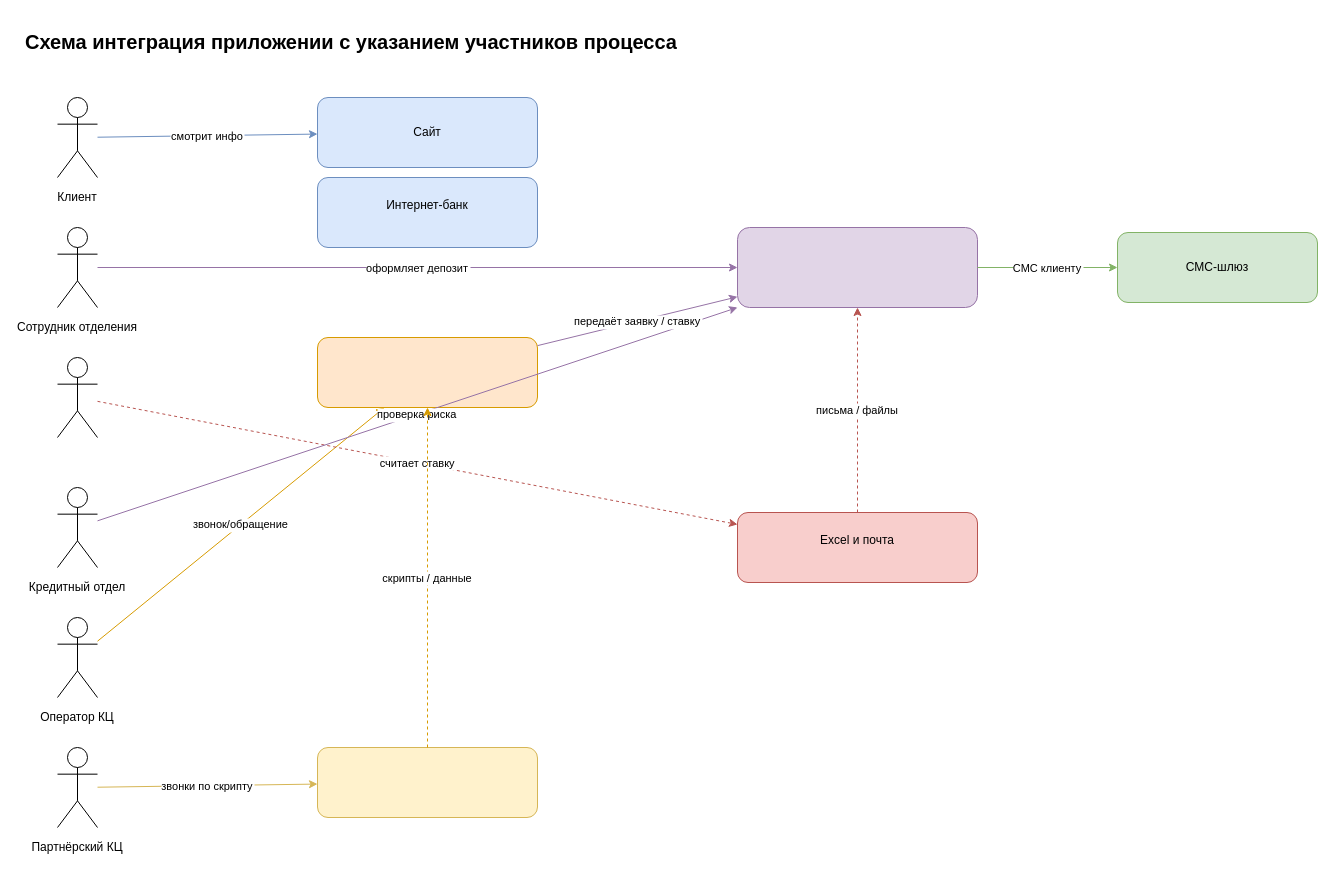
Some shapes in this 1335 by 871 pixel diagram are drawn without their labels. The centre of each missing label's shape, as x and y in pixels:
"АБС" goes at (x=857, y=267).
"Бэк-офис (депозиты)" goes at (x=77, y=397).
"Система кол-центра" goes at (x=427, y=372).
"Система партнёрского КЦ" goes at (x=427, y=782).
